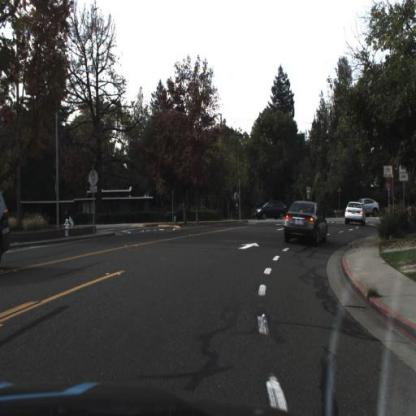car: (285, 202, 329, 248), (342, 200, 367, 229), (257, 199, 287, 220)
